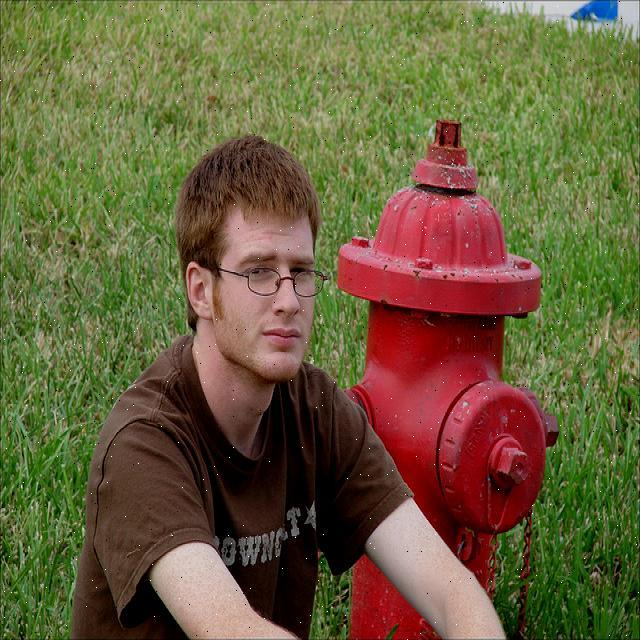fire_hydrant: (338, 114, 559, 628)
